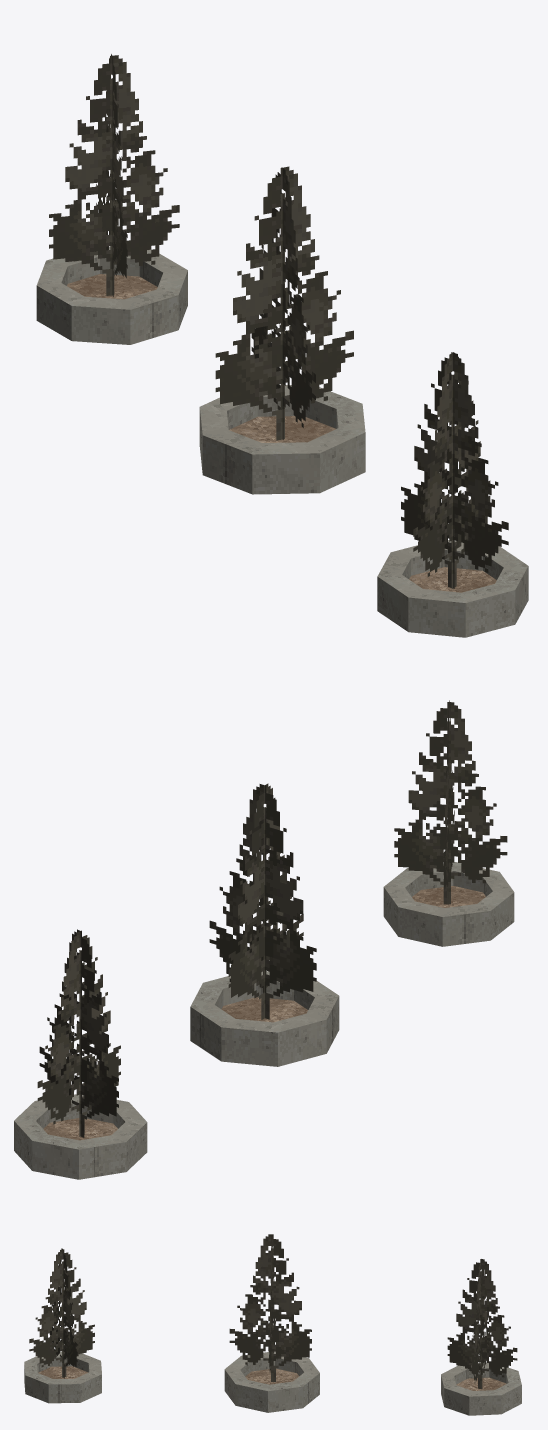
The model's file is procgen-procpain-tree-park-pine-large-xm3zm1.obj.
The picture shows the model from 3 angles, top to bottom: view 1: azimuth 30°, elevation 25°; view 2: azimuth 150°, elevation 25°; view 3: azimuth 270°, elevation 25°; orthographic projection. The views are drawn at different scales.
Bounding box in the file's own units: 7.63 × 10.27 × 30.57.
